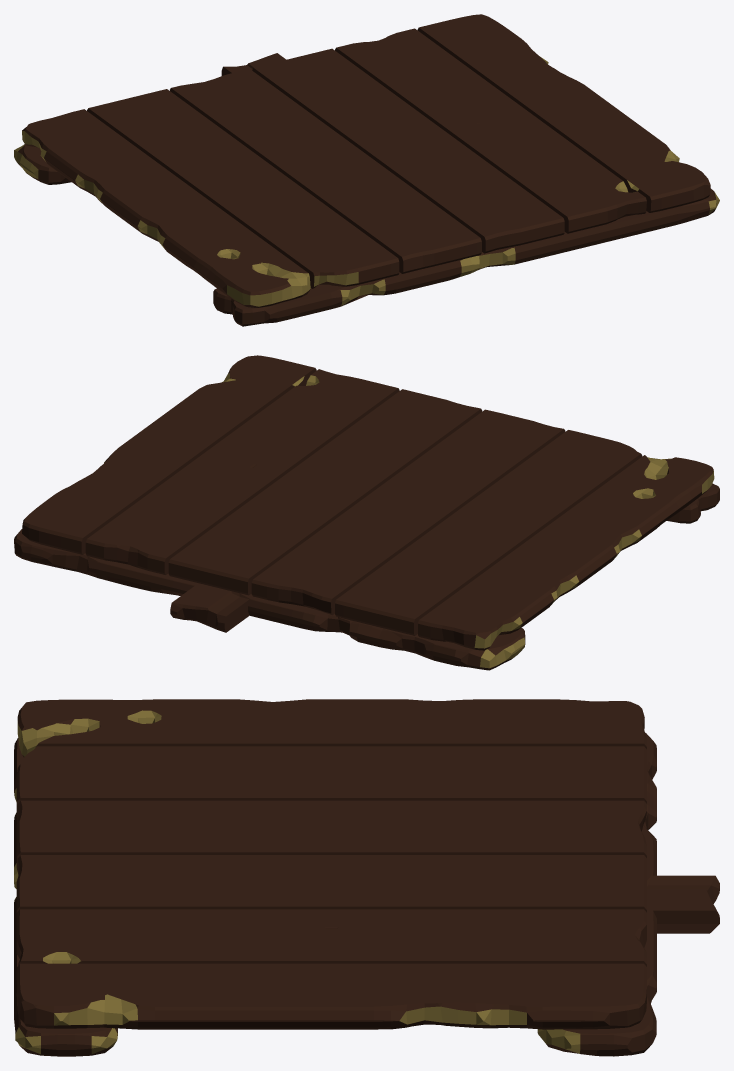
The model's file is 3D_Platform.fbx.
3 views of the same model, one above another, from view 1: azimuth 30°, elevation 25°; view 2: azimuth 150°, elevation 25°; view 3: azimuth 270°, elevation 25° (orthographic). The views are drawn at different scales.
Visible parts, largest first — view 1: Platform; view 2: Platform; view 3: Platform.
Boxes of the visible parts, x1,y1,x2,y2 form: Platform: (14, 14, 719, 326); Platform: (14, 355, 719, 670); Platform: (14, 699, 719, 1056).
Size of the model in its own units: 232 by 15.3 by 216.
